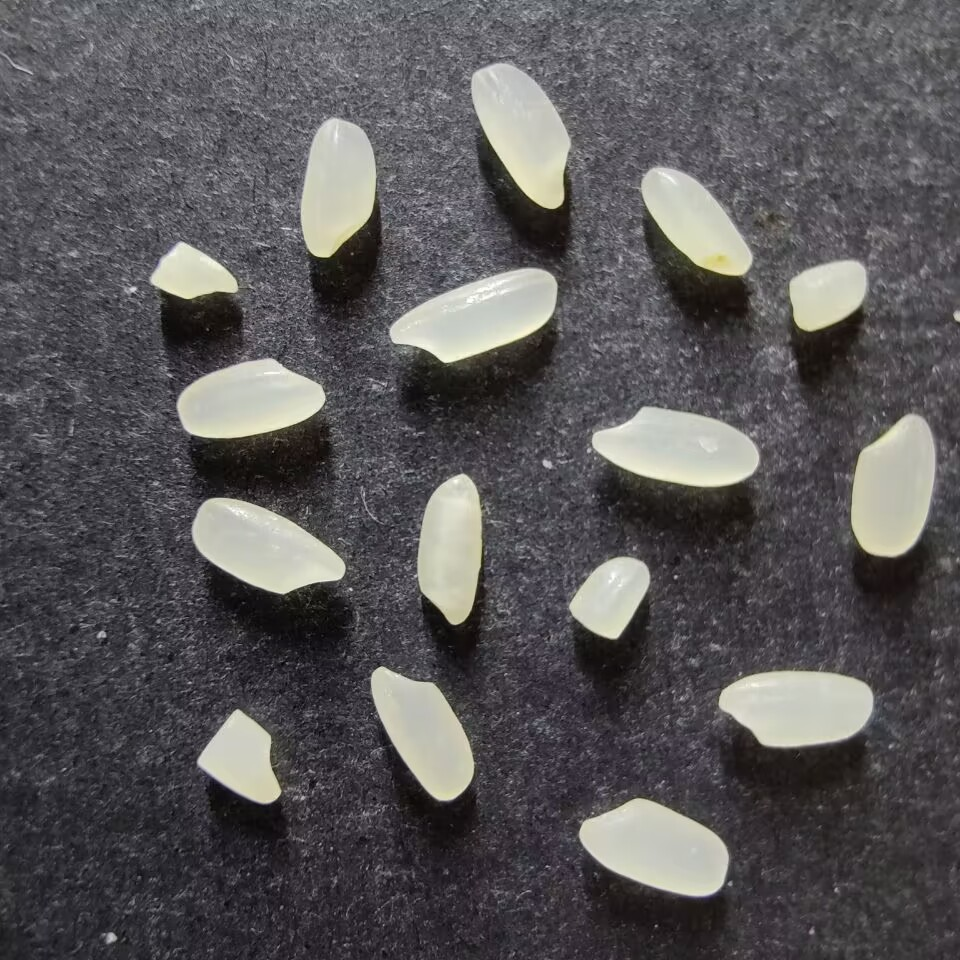broken: (196, 709, 282, 804), (568, 556, 650, 639), (788, 260, 868, 331), (149, 240, 238, 299)
rice: (389, 267, 558, 363), (577, 797, 729, 897), (191, 497, 345, 594), (470, 63, 570, 209), (370, 666, 474, 801), (591, 406, 759, 487), (850, 413, 936, 558), (176, 357, 326, 439), (717, 670, 874, 748), (640, 166, 751, 276), (299, 118, 376, 258), (416, 472, 482, 625)
